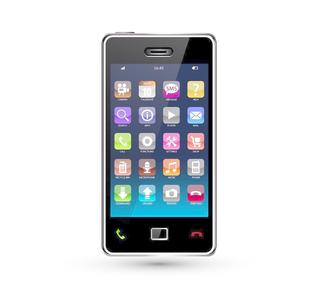phone: (106, 35, 218, 256)
